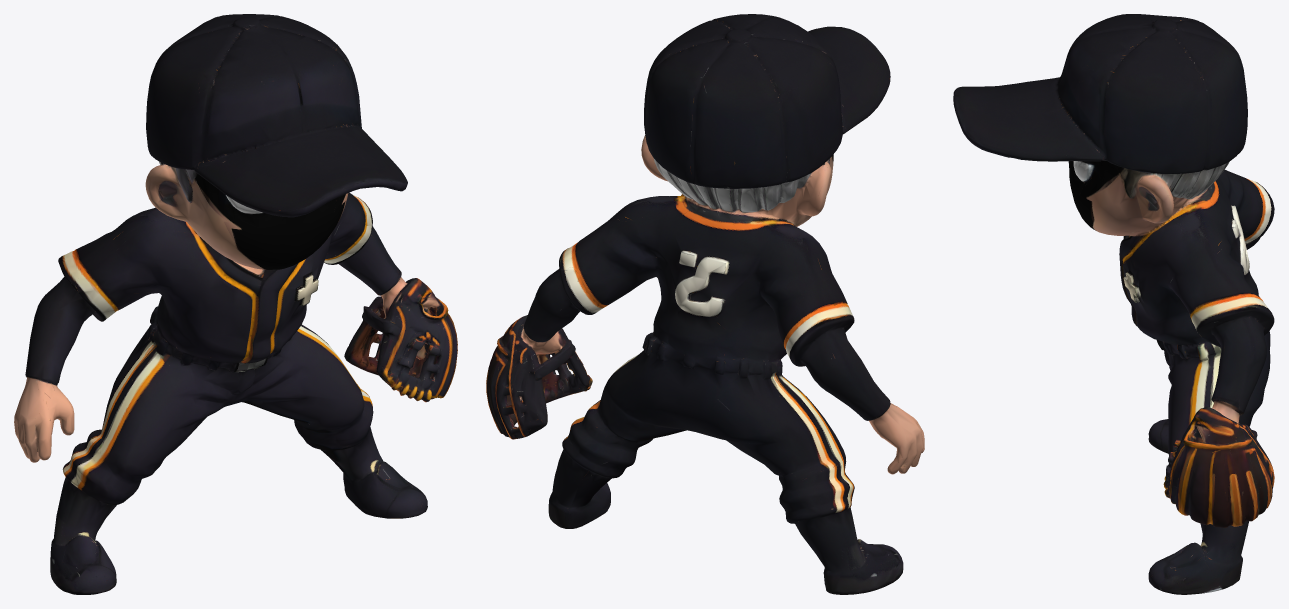
The model's file is sd_fielder.glb.
3 views of the same model, side by side, from view 1: azimuth 30°, elevation 25°; view 2: azimuth 150°, elevation 25°; view 3: azimuth 270°, elevation 25° (orthographic). The views are drawn at different scales.
Parts seen in each view (by area): view 1: Mesh_0; view 2: Mesh_0; view 3: Mesh_0.
Boxes of the visible parts, x1,y1,x2,y2 form: Mesh_0: (14, 14, 457, 594); Mesh_0: (486, 14, 924, 594); Mesh_0: (953, 14, 1274, 594).
Size of the model in its own units: 1.65 by 1.91 by 1.13.
1 material, 1 textured.
